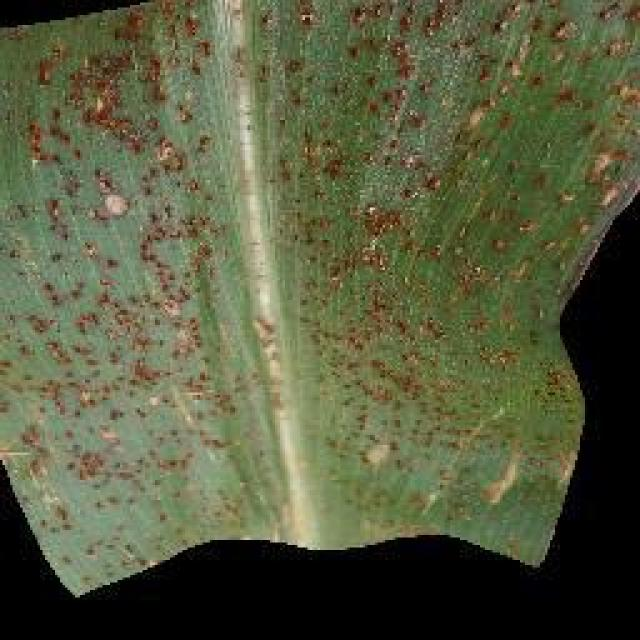Corn Common Rust: (34, 4, 524, 494)
